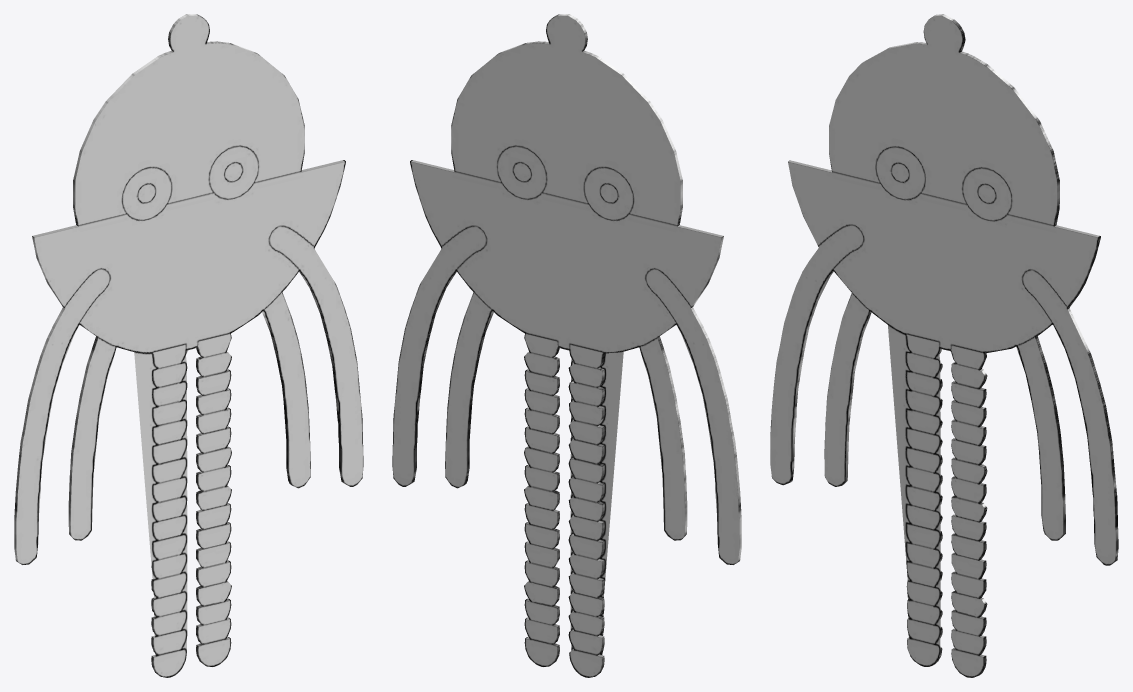
Rendered from 17_tamki.fbx.
The picture shows the model from 3 angles, left to right: view 1: azimuth 30°, elevation 25°; view 2: azimuth 150°, elevation 25°; view 3: azimuth 330°, elevation 25°; orthographic projection.
Parts seen in each view (by area): view 1: planarTrimmedSurface25; view 2: planarTrimmedSurface25; view 3: planarTrimmedSurface25.
Part boxes in pixels (box(x1,y1,x2,y2)): planarTrimmedSurface25: box(14, 14, 363, 677); planarTrimmedSurface25: box(392, 14, 741, 677); planarTrimmedSurface25: box(770, 14, 1118, 677).
Bounding box in the file's own units: 20.86 × 37.73 × 0.2137.
1 material, 1 textured.
